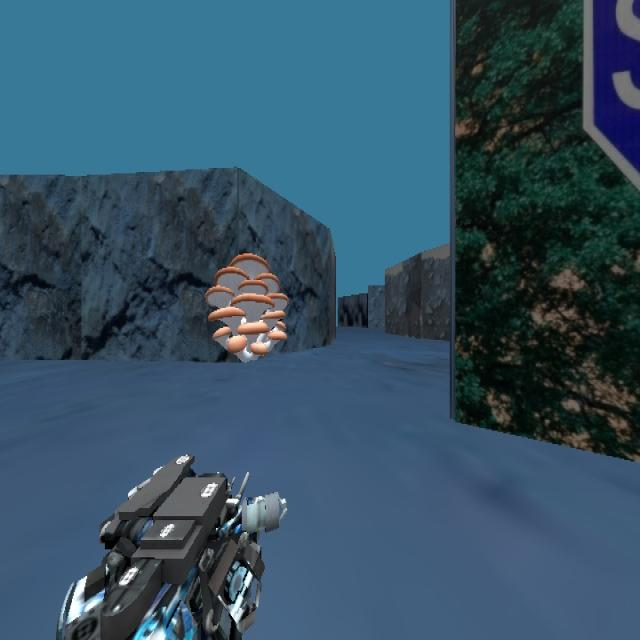Mushroom: (204, 251, 289, 361)
Stop_Sign: (581, 0, 639, 192)
